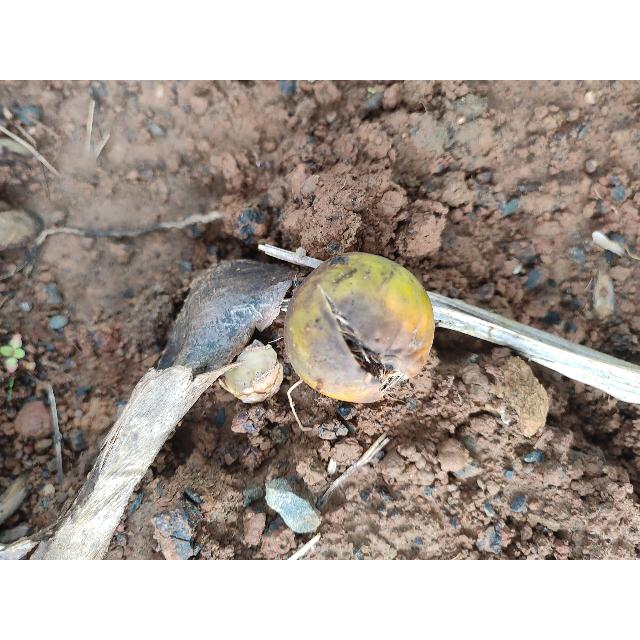damaged: (284, 252, 434, 403)
